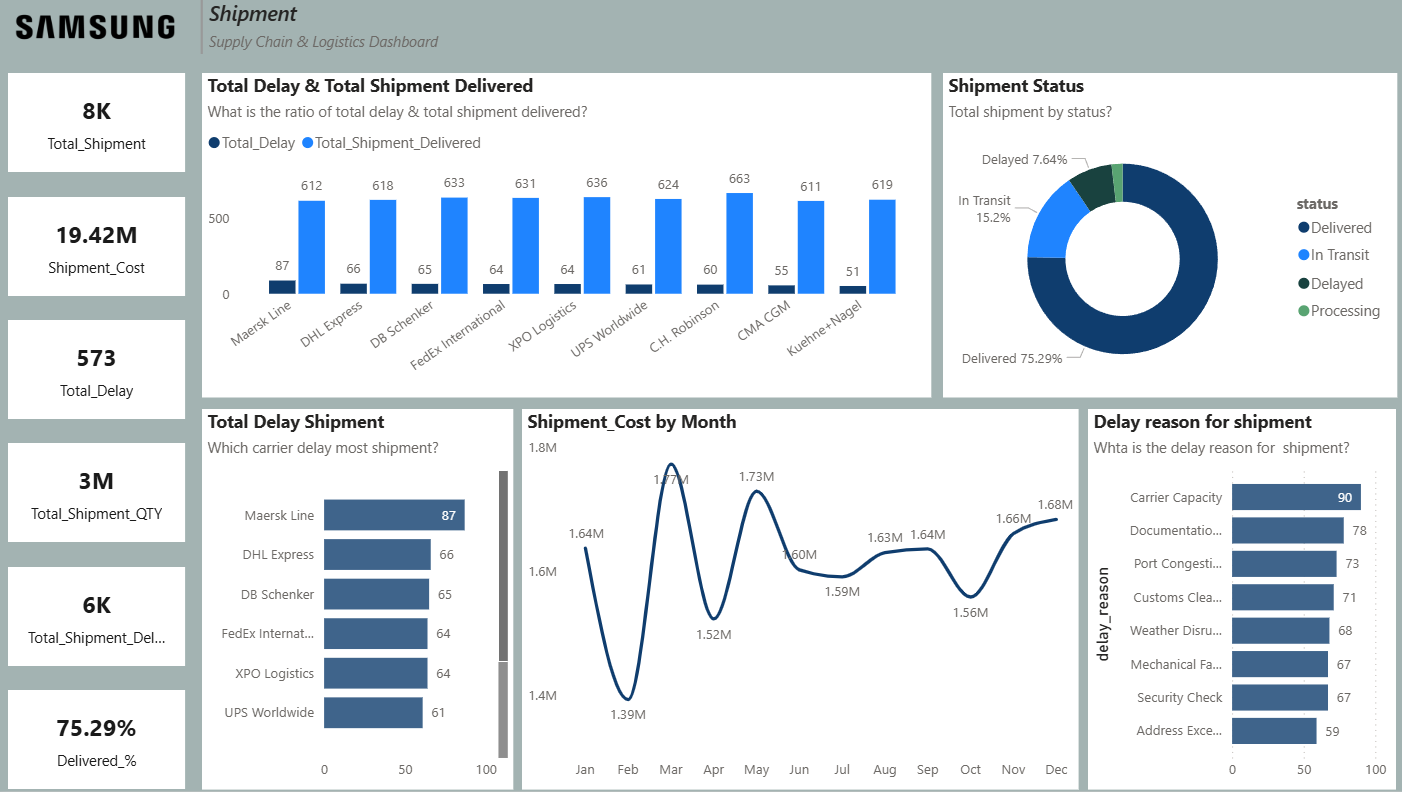

This screenshot's page, from the dashboard's own definition file:
{"tool":"powerbi","page":{"name":"Shipment","canvas":[1280,720],"ordinal":4},"visuals":[{"type":"shape","title":"Shipment","box":[192.1,0,244.2,50.3],"z":0},{"type":"shape","box":[167,0,35.9,50.3],"z":1000},{"type":"image","box":[0,0,169.7,50.3],"z":2000},{"type":"cardVisual","fields":{"Data":["MeasuresTable.Shipment_Cost"]},"box":[9,179.6,161,90],"z":3000},{"type":"cardVisual","fields":{"Data":["MeasuresTable.Total_Delay"]},"box":[9,291.8,161,90],"z":4000},{"type":"cardVisual","fields":{"Data":["MeasuresTable.Delivered_%"]},"box":[9,628.4,161,90],"z":5000},{"type":"cardVisual","fields":{"Data":["MeasuresTable.Total_Shipment_QTY"]},"box":[9,404,161,90],"z":6000},{"type":"cardVisual","fields":{"Data":["MeasuresTable.Total_Shipment"]},"box":[9,67.3,161,90],"z":7000},{"type":"cardVisual","fields":{"Data":["MeasuresTable.Total_Shipment_Delivered"]},"box":[9,516.2,161,90],"z":8000},{"type":"clusteredBarChart","title":"Total Delay Shipment","fields":{"Y":["MeasuresTable.Total_Delay"],"Category":["fact_shipment.carrier"]},"box":[185,372.5,282.5,346.2],"z":9000},{"type":"clusteredColumnChart","title":"Total Delay & Total Shipment Delivered","fields":{"Category":["fact_shipment.carrier"],"Y":["MeasuresTable.Total_Delay","MeasuresTable.Total_Shipment_Delivered"]},"box":[185,67.5,662.5,295],"z":10000},{"type":"lineChart","title":"Shipment_Cost by Month","fields":{"Y":["MeasuresTable.Shipment_Cost"],"Category":["dim_date.Month_Short"]},"box":[476.2,372.5,506.2,346.2],"z":11000},{"type":"clusteredBarChart","title":"Delay reason for shipment","fields":{"Y":["MeasuresTable.Total_Delay"],"Category":["fact_shipment.delay_reason"]},"box":[991.2,372.5,280,346.2],"z":12000},{"type":"donutChart","title":"Shipment Status","fields":{"Y":["MeasuresTable.Total_Shipment"],"Category":["fact_shipment.status"]},"box":[858.8,67.5,412.5,295],"z":13000}]}

Visuals, with their boxes in screenshot pixels (x1, y1, x2, y2), scaled from the page's 1280x720 canvas onto the 1402x792 screenshot:
"Shipment" shape: [210,0,478,55]
shape: [183,0,222,55]
image: [0,0,186,55]
cardVisual - MeasuresTable.Shipment_Cost: [10,198,186,297]
cardVisual - MeasuresTable.Total_Delay: [10,321,186,420]
cardVisual - MeasuresTable.Delivered_%: [10,691,186,790]
cardVisual - MeasuresTable.Total_Shipment_QTY: [10,444,186,543]
cardVisual - MeasuresTable.Total_Shipment: [10,74,186,173]
cardVisual - MeasuresTable.Total_Shipment_Delivered: [10,568,186,667]
"Total Delay Shipment" clusteredBarChart: [203,410,512,791]
"Total Delay & Total Shipment Delivered" clusteredColumnChart: [203,74,928,399]
"Shipment_Cost by Month" lineChart: [522,410,1076,791]
"Delay reason for shipment" clusteredBarChart: [1086,410,1392,791]
"Shipment Status" donutChart: [941,74,1392,399]
